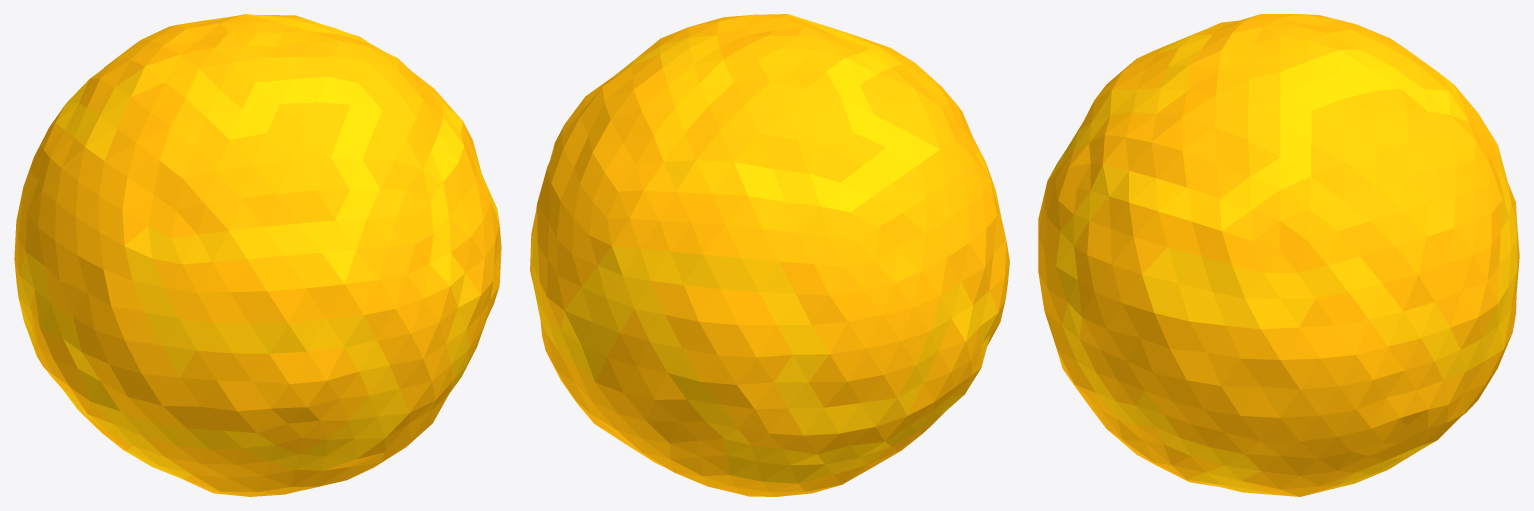
The model's file is venus.fbx.
3 renders of one model, left to right at view 1: azimuth 30°, elevation 25°; view 2: azimuth 150°, elevation 25°; view 3: azimuth 270°, elevation 25°, orthographic.
Parts seen in each view (by area): view 1: Icosphere; view 2: Icosphere; view 3: Icosphere.
Boxes of the visible parts, left/top/right/bottom form: Icosphere: left=14, top=14, right=501, bottom=496; Icosphere: left=530, top=14, right=1009, bottom=496; Icosphere: left=1038, top=14, right=1519, bottom=496.
Bounding box in the file's own units: 1017 × 1020 × 1007.
